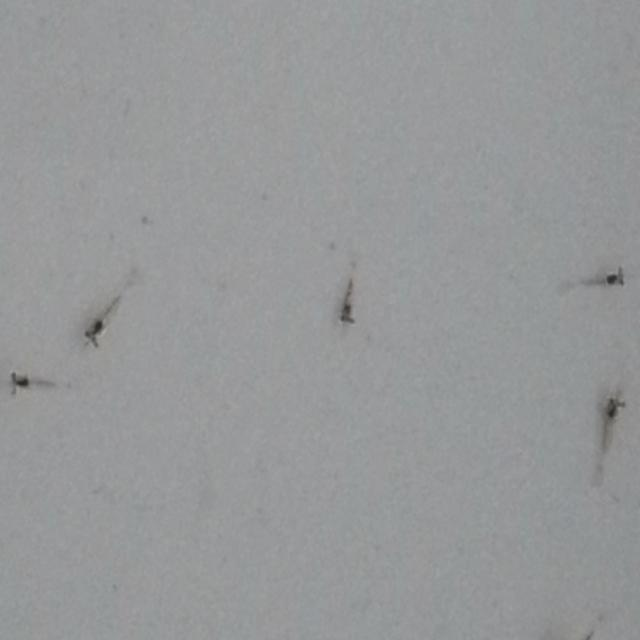shrimp-seed: (600, 392, 628, 422), (82, 318, 106, 351), (336, 292, 358, 327), (8, 368, 32, 398), (604, 266, 628, 292)
